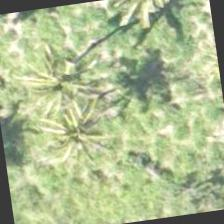Kelapa_Sawit: (8, 60, 110, 162), (100, 0, 197, 53)
